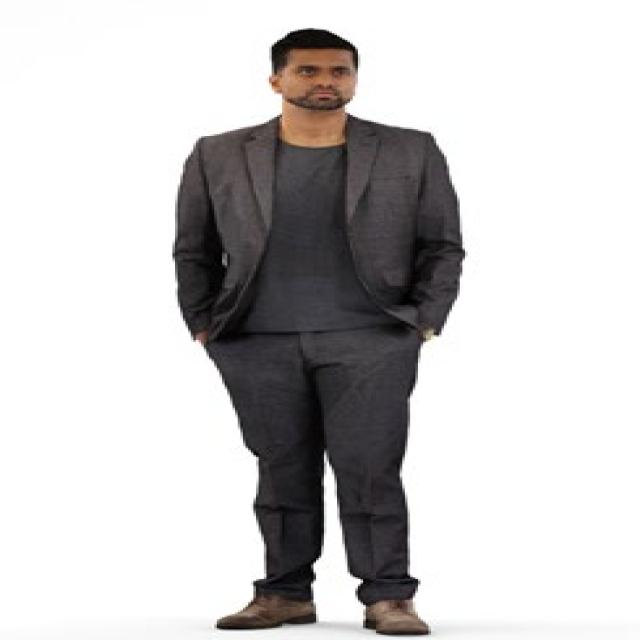standing: (170, 25, 471, 640)
